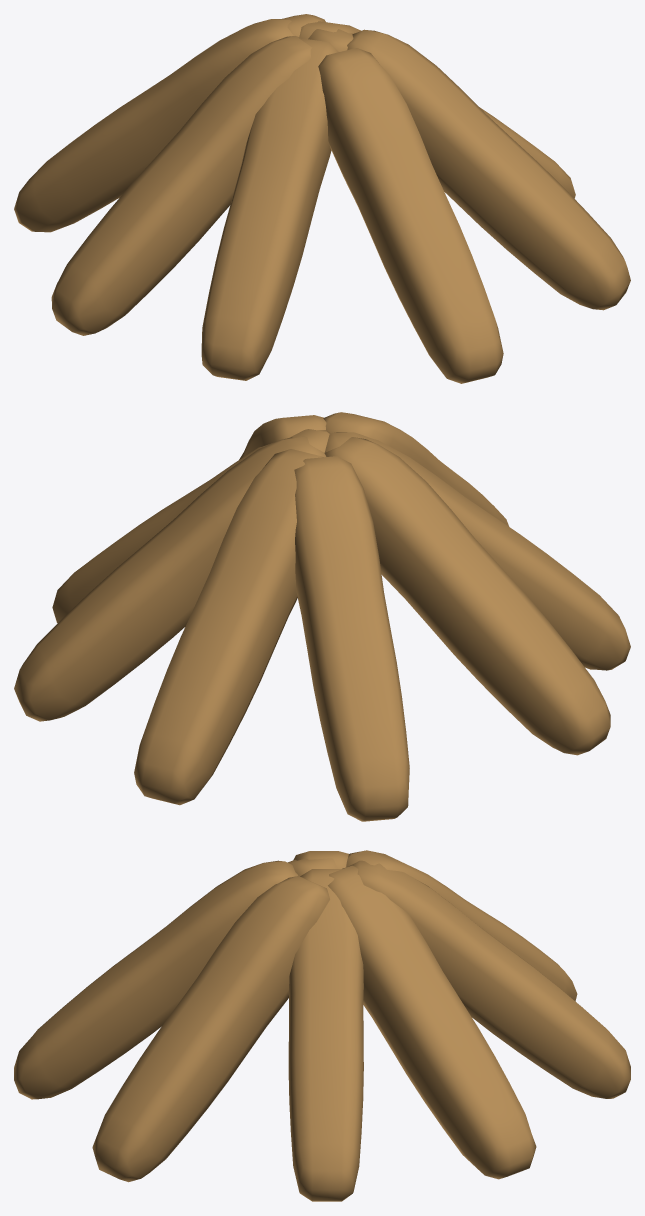
File: Camp_Fire_Logs_2.fbx
3 renders of one model, top to bottom at view 1: azimuth 30°, elevation 25°; view 2: azimuth 150°, elevation 25°; view 3: azimuth 270°, elevation 25°, orthographic. The views are drawn at different scales.
Visible parts, largest first — view 1: pCube29, pCube28; view 2: pCube28, pCube29; view 3: pCube28, pCube29.
Boxes of the visible parts, x1,y1,x2,y2 form: pCube29: [14, 19, 630, 380]; pCube28: [51, 14, 575, 383]; pCube28: [52, 412, 610, 805]; pCube29: [14, 415, 630, 821]; pCube28: [14, 851, 630, 1201]; pCube29: [92, 850, 577, 1182].
Bounding box in the file's own units: 20.43 × 8.95 × 22.18.
